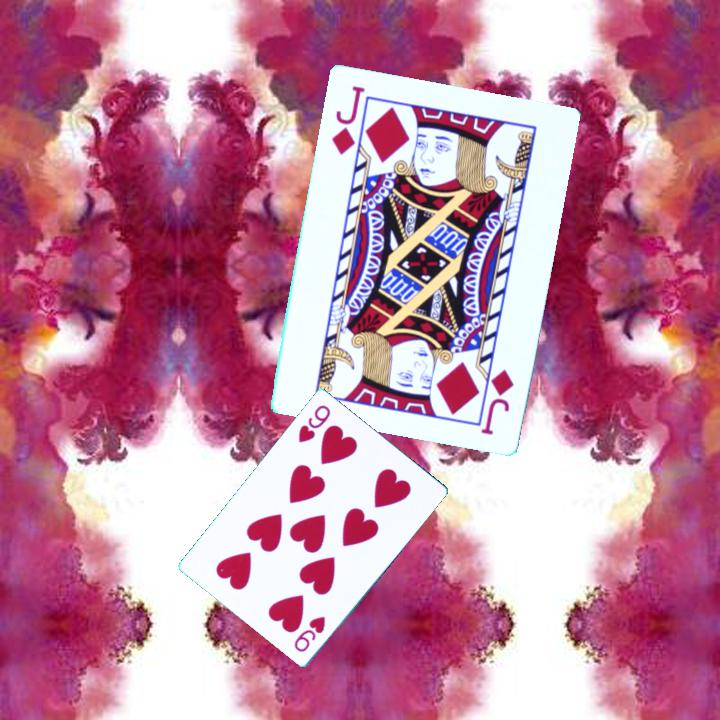9h: (295, 401, 334, 445), (290, 612, 328, 655)
Jd: (327, 81, 368, 157), (477, 365, 517, 438)
